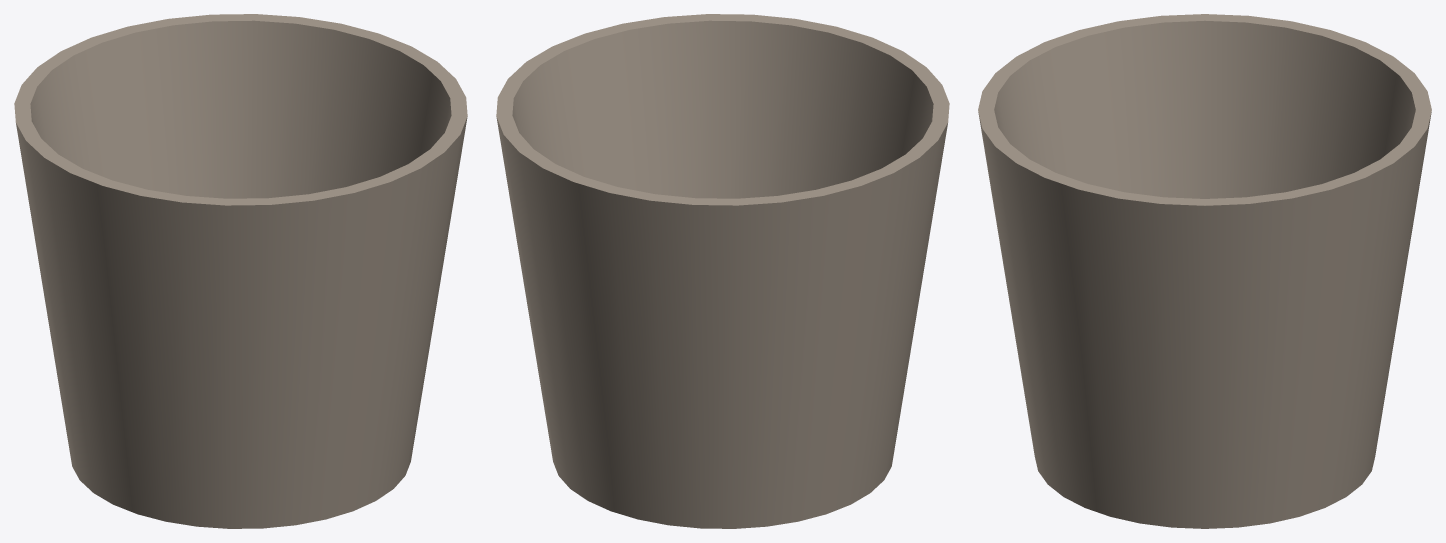
File: Pot_1.fbx
3 renders of one model, left to right at view 1: azimuth 30°, elevation 25°; view 2: azimuth 150°, elevation 25°; view 3: azimuth 270°, elevation 25°, orthographic.
Parts seen in each view (by area): view 1: pCylinder718; view 2: pCylinder718; view 3: pCylinder718.
Part boxes in pixels (x1,y1,x2,y2): pCylinder718: (14,14,467,528); pCylinder718: (496,14,949,528); pCylinder718: (978,14,1431,528).
Size of the model in its own units: 10.75 by 9.07 by 10.75.
